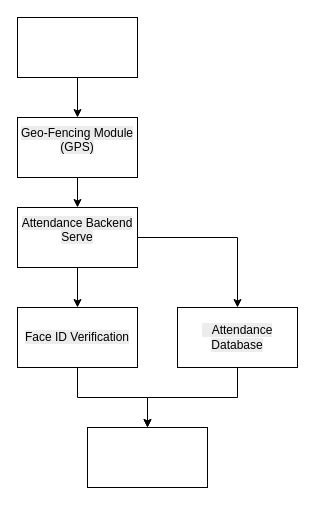
Image size: 315x505. Some labels were removed from this diagram. The centre of each missing label's shape, as x and y in pixels:
Student Mobile App: point 77,47
Teacher Dashboard: point 147,457
